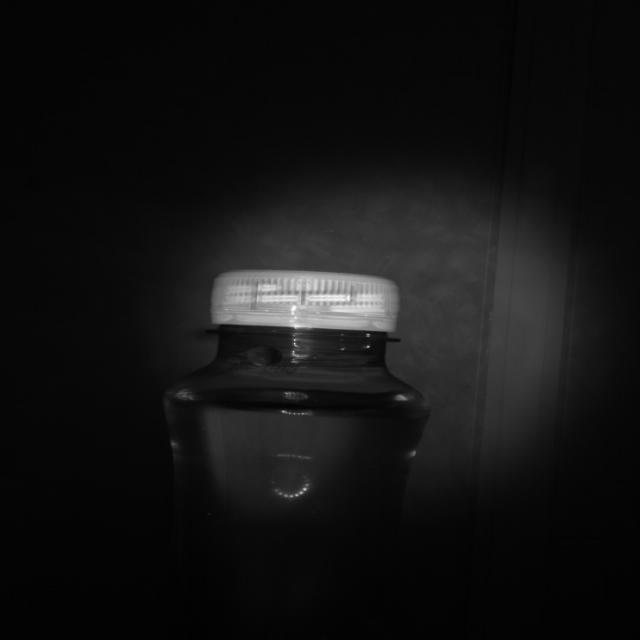Good: (215, 268, 398, 332)
